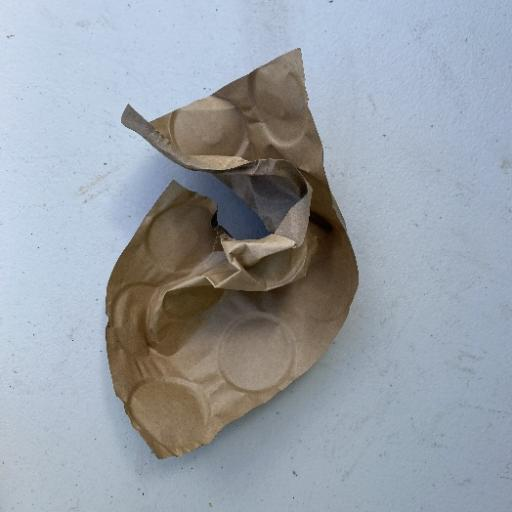Cardboard: (102, 47, 360, 460)
